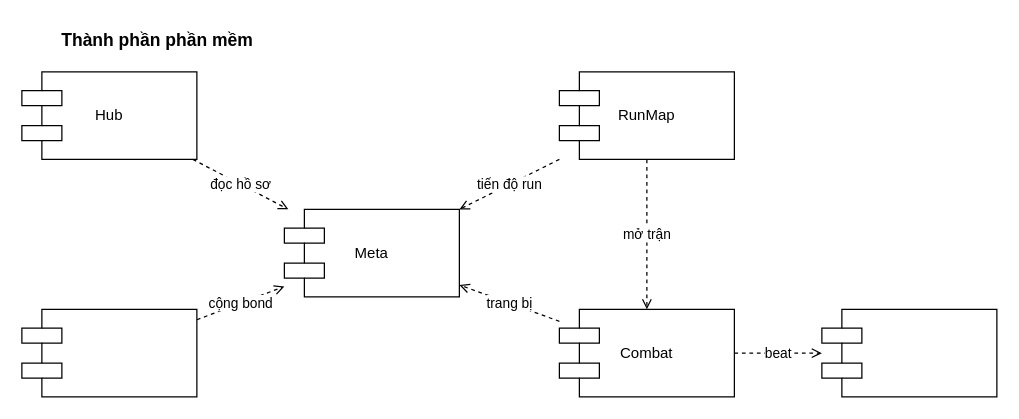
Image size: 1019x419. Some labels were removed from this diagram. The shapes that lost their labels are listed below. From the top down, each one's centre as x and y in pixels, then its label:
At (x=109, y=352): "Narrative".
At (x=909, y=352): "Audio".
